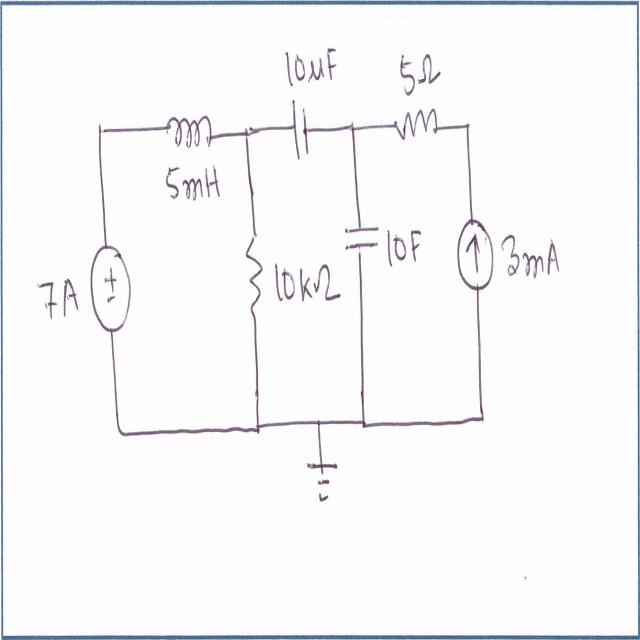capacitor: (344, 220, 384, 260), (291, 94, 311, 170)
current_source: (456, 214, 498, 293)
ground: (304, 454, 344, 511)
inductor: (166, 102, 213, 159)
resistor: (244, 222, 267, 326), (394, 100, 440, 147)
voltage_source: (87, 244, 138, 338)
